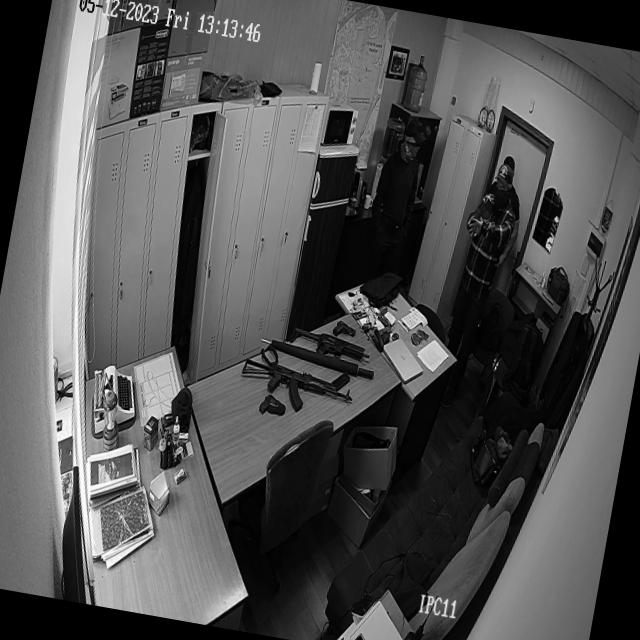gun: (237, 357, 357, 418), (286, 324, 372, 366), (257, 391, 288, 419), (331, 316, 358, 342)
person: (372, 115, 431, 252), (462, 156, 530, 265)
